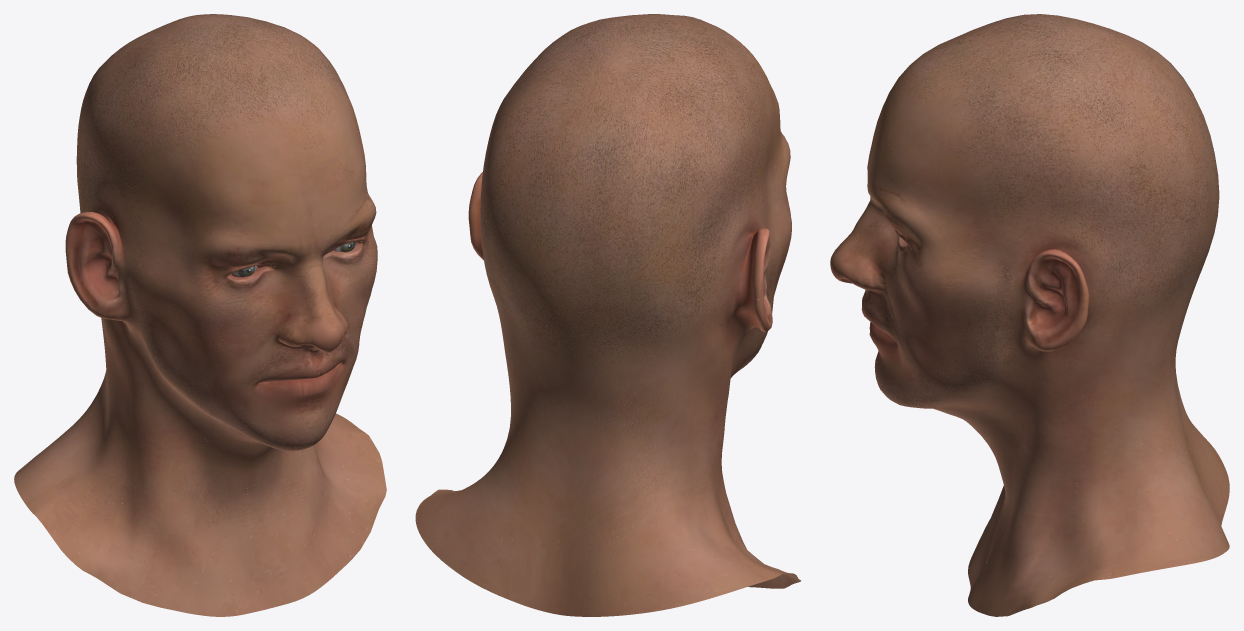
Rendered from 真人头像_男_光头中年男性01_opt.glb.
3 views of the same model, side by side, from view 1: azimuth 30°, elevation 25°; view 2: azimuth 150°, elevation 25°; view 3: azimuth 270°, elevation 25° (orthographic). The views are drawn at different scales.
Visible parts, largest first — view 1: head_clean_2lambert2SG, head_clean_2lambert2SG_1; view 2: head_clean_2lambert2SG, head_clean_2lambert2SG_1; view 3: head_clean_2lambert2SG, head_clean_2lambert2SG_1.
Boxes of the visible parts, x1=… form: head_clean_2lambert2SG: x1=14, y1=14, x2=386, y2=616; head_clean_2lambert2SG_1: x1=35, y1=68, x2=374, y2=587; head_clean_2lambert2SG: x1=415, y1=14, x2=801, y2=616; head_clean_2lambert2SG_1: x1=417, y1=108, x2=786, y2=571; head_clean_2lambert2SG: x1=830, y1=14, x2=1229, y2=616; head_clean_2lambert2SG_1: x1=839, y1=73, x2=1213, y2=616.
Bounding box in the file's own units: 0.1888 × 0.3 × 0.1945.
2 materials, 2 textured.
